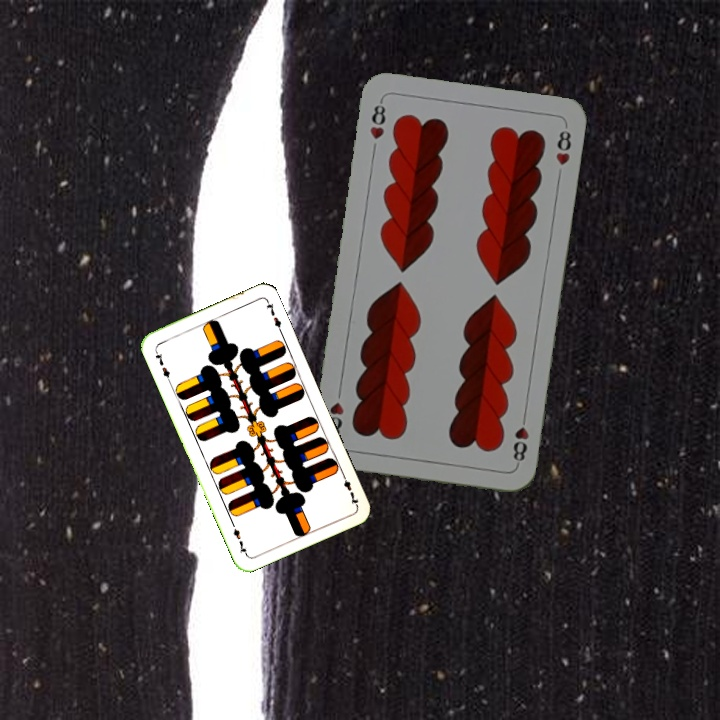E7: (338, 469, 361, 508), (151, 346, 173, 384)
H8: (509, 409, 531, 468), (366, 96, 388, 142)
